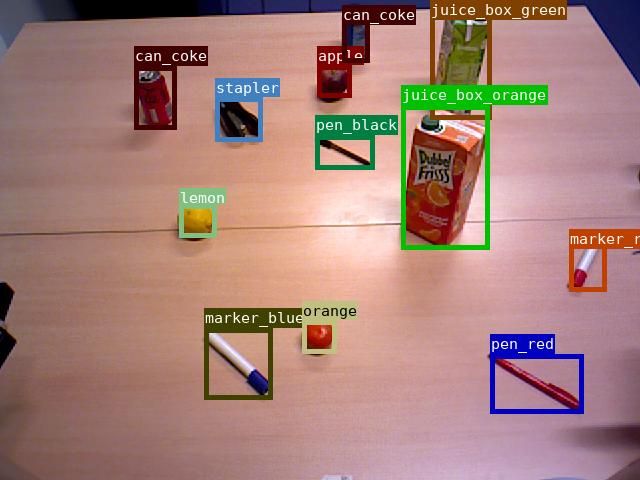apple: (317, 65, 351, 97)
can_coke: (134, 66, 176, 129), (342, 5, 369, 62)
juice_box_green: (430, 0, 491, 119)
juice_box_orange: (401, 105, 489, 249)
lemon: (179, 204, 216, 237)
marker_blue: (204, 328, 272, 399)
marker_red: (569, 229, 606, 291)
orange: (302, 320, 336, 353)
pen_black: (315, 135, 374, 169)
pen_red: (490, 354, 583, 413)
stapler: (215, 97, 262, 141)
